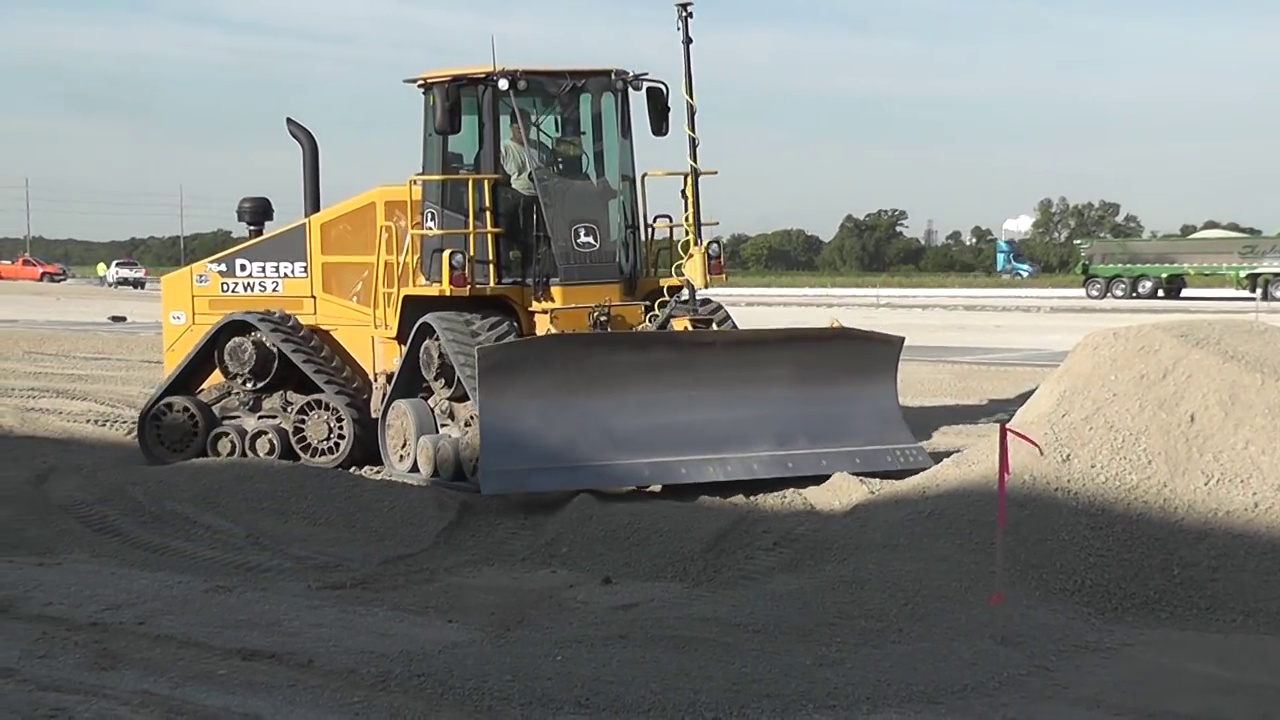bulldozer: (136, 62, 937, 495)
car: (1, 252, 68, 286), (107, 257, 148, 286)
person: (97, 257, 107, 287)
truck: (1072, 234, 1280, 306)
